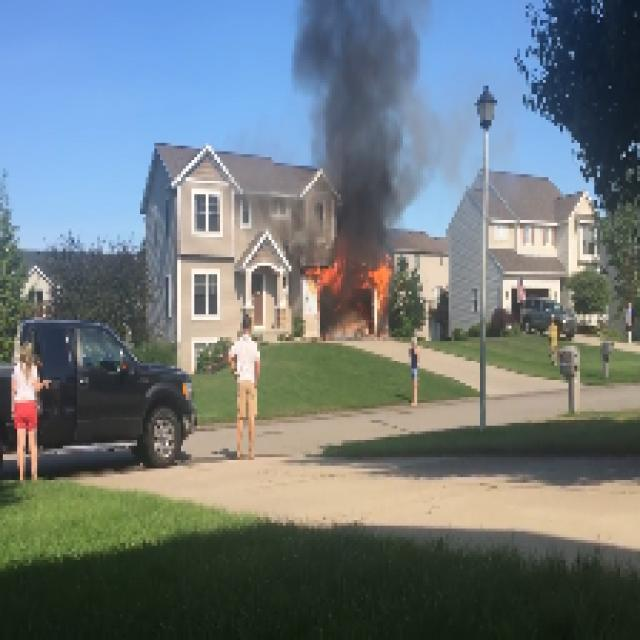Fire: (372, 262, 396, 300), (313, 262, 345, 288)
Smoke: (313, 13, 404, 257)
